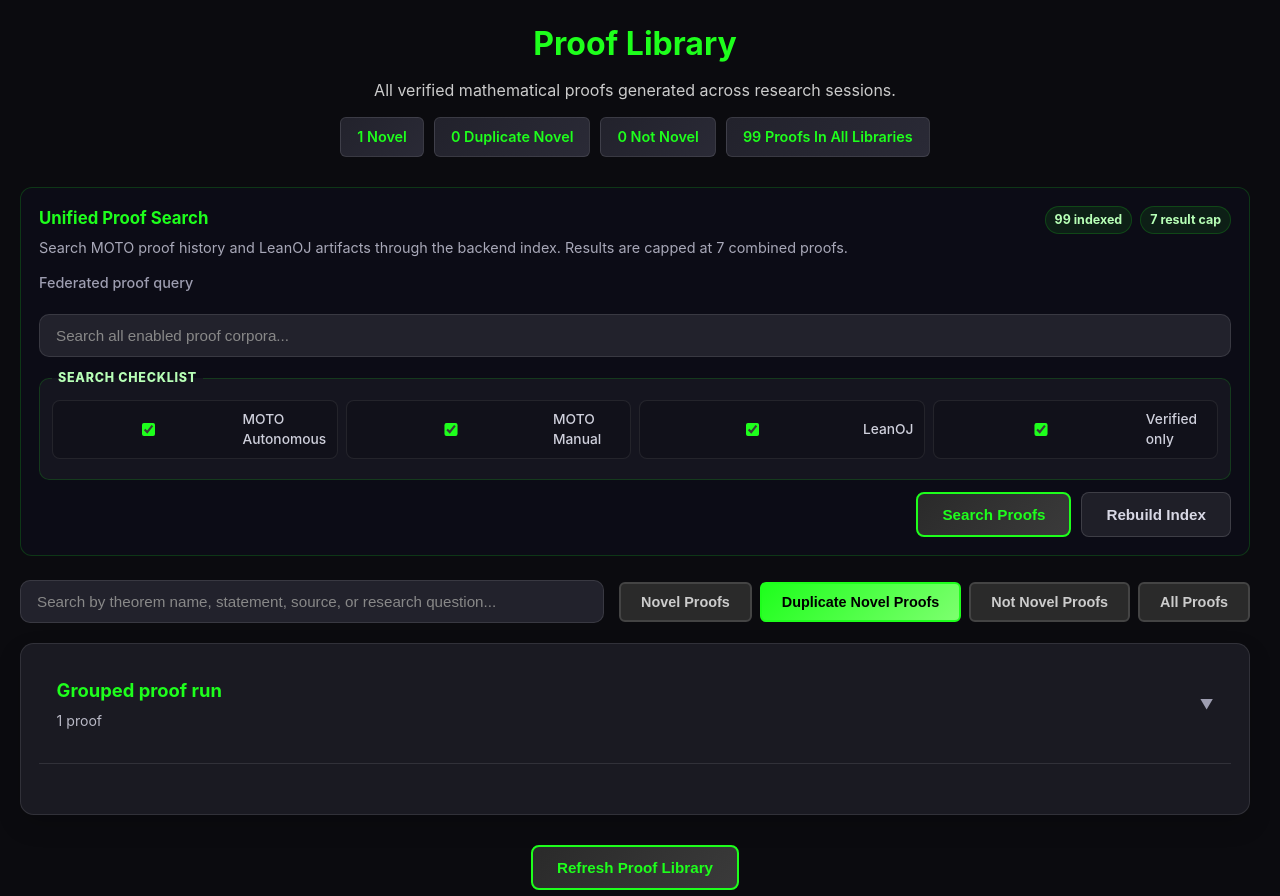
Test: surfaces archived novelty-group download failures
Click the button "Grouped proof run 1 proof ▼" at (139, 690), box x1=39 y1=662 x2=1231 y2=747
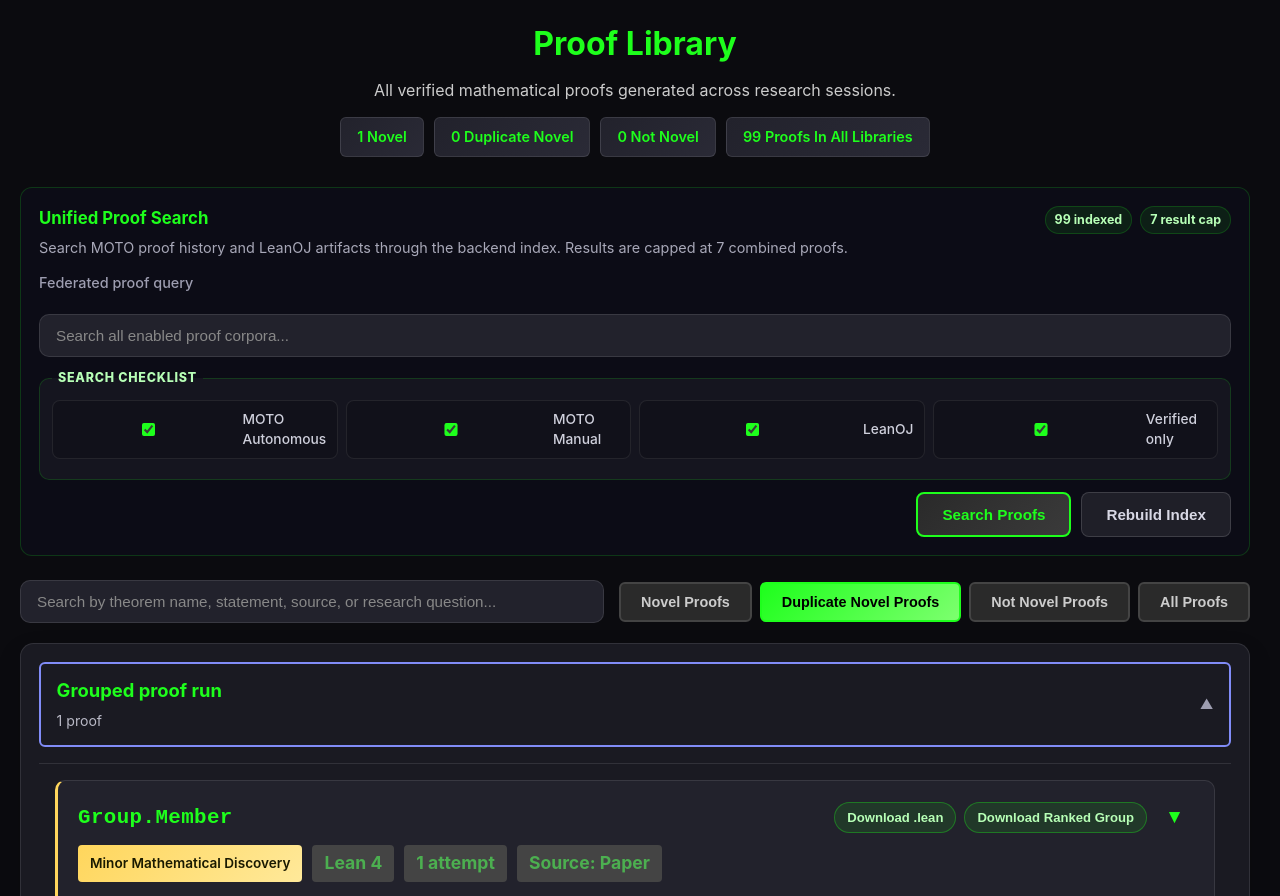
Click the button "Download Ranked Group" at (1056, 817), box x1=964 y1=802 x2=1147 y2=833
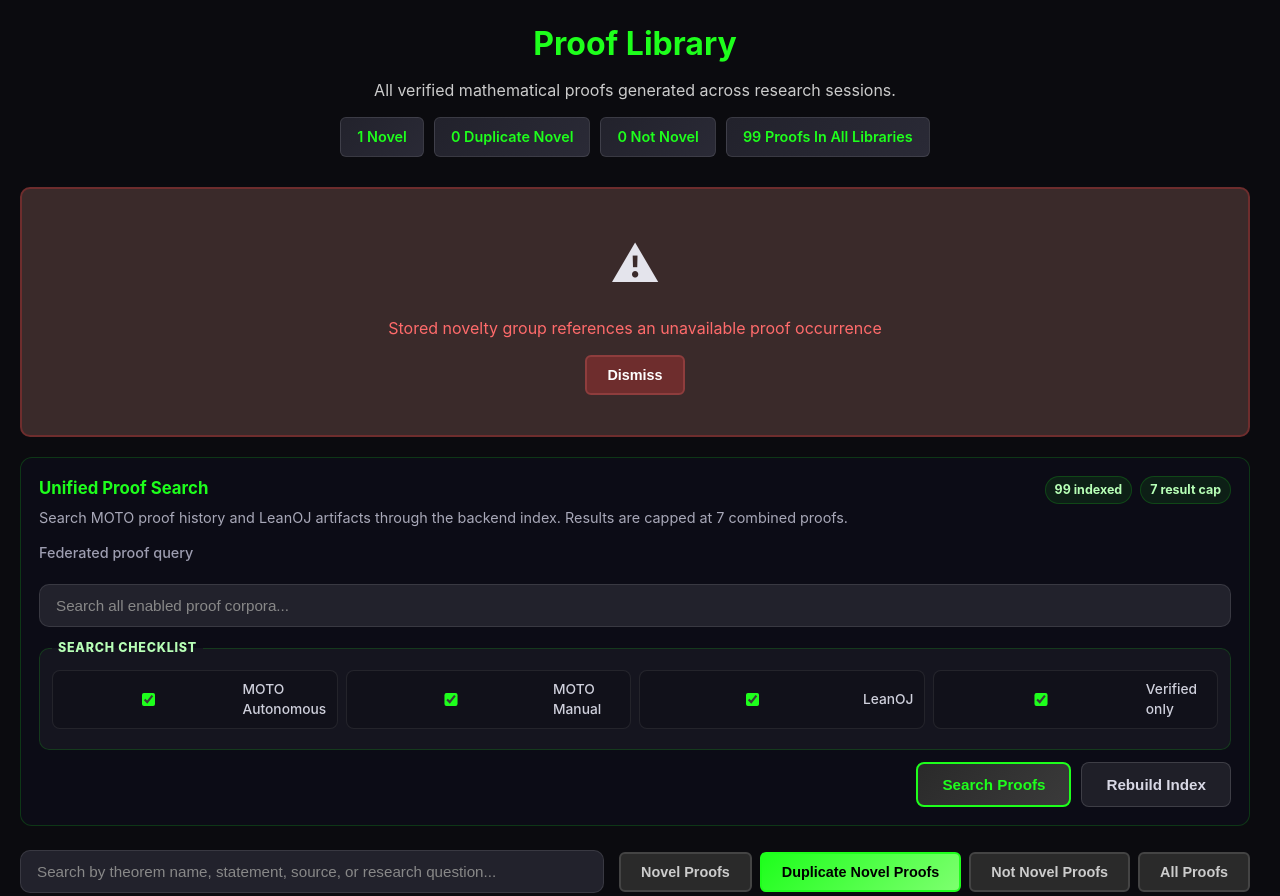
Now the message shows "unavailable proof occurrence", box x1=388 y1=318 x2=882 y2=338
